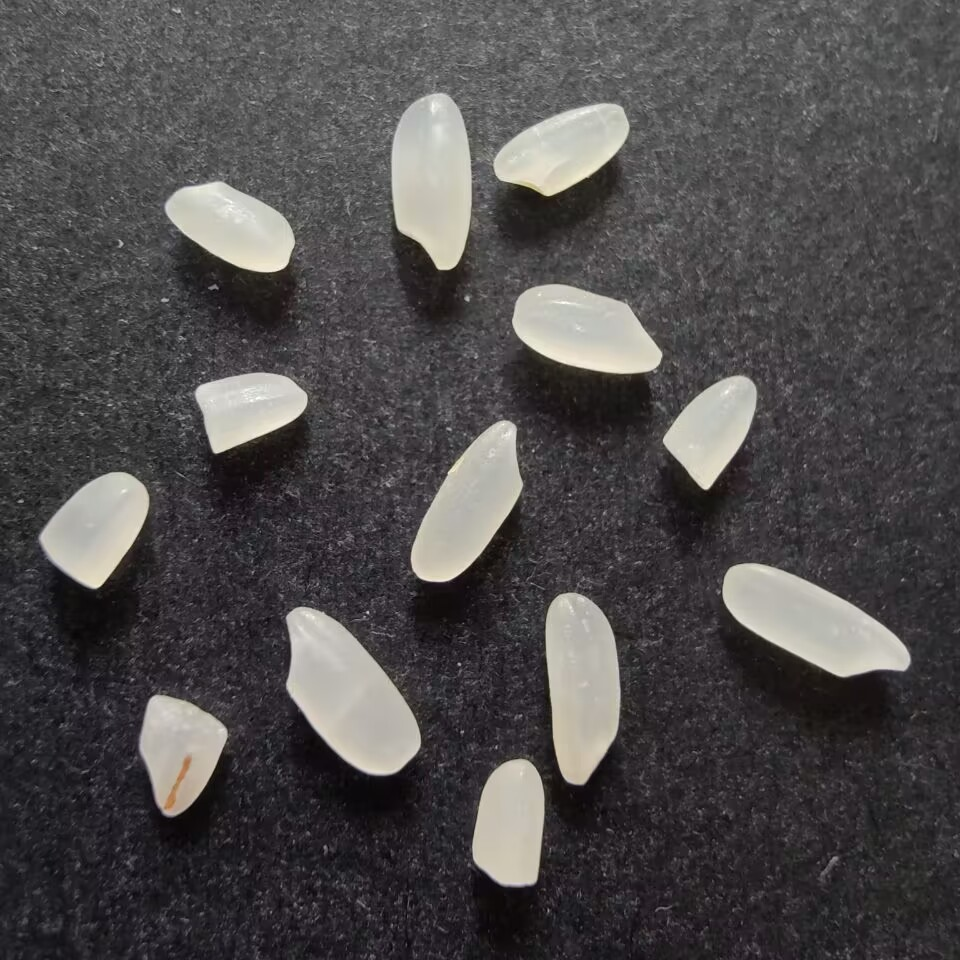broken: (32, 468, 154, 594), (658, 368, 763, 496), (132, 691, 229, 825), (466, 756, 548, 896), (188, 369, 311, 457)
rice: (281, 600, 430, 779), (719, 558, 915, 685), (405, 413, 530, 585), (539, 586, 624, 790), (383, 90, 474, 273), (501, 282, 668, 378), (488, 100, 634, 199), (156, 178, 300, 276)
